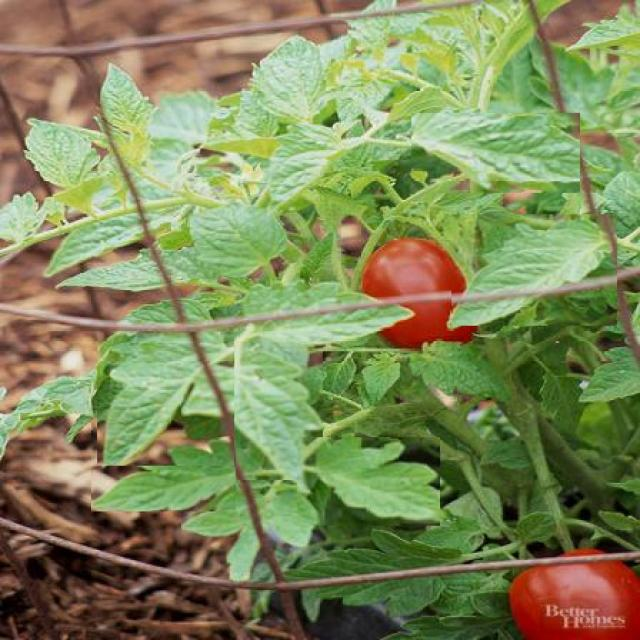Healthy: (451, 214, 618, 326), (97, 331, 234, 466), (200, 343, 323, 480), (411, 114, 580, 194), (298, 438, 440, 526), (90, 430, 236, 511), (188, 195, 279, 278), (401, 337, 512, 402)
